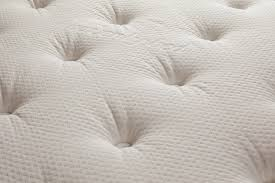bed-matress: (1, 1, 274, 182)
